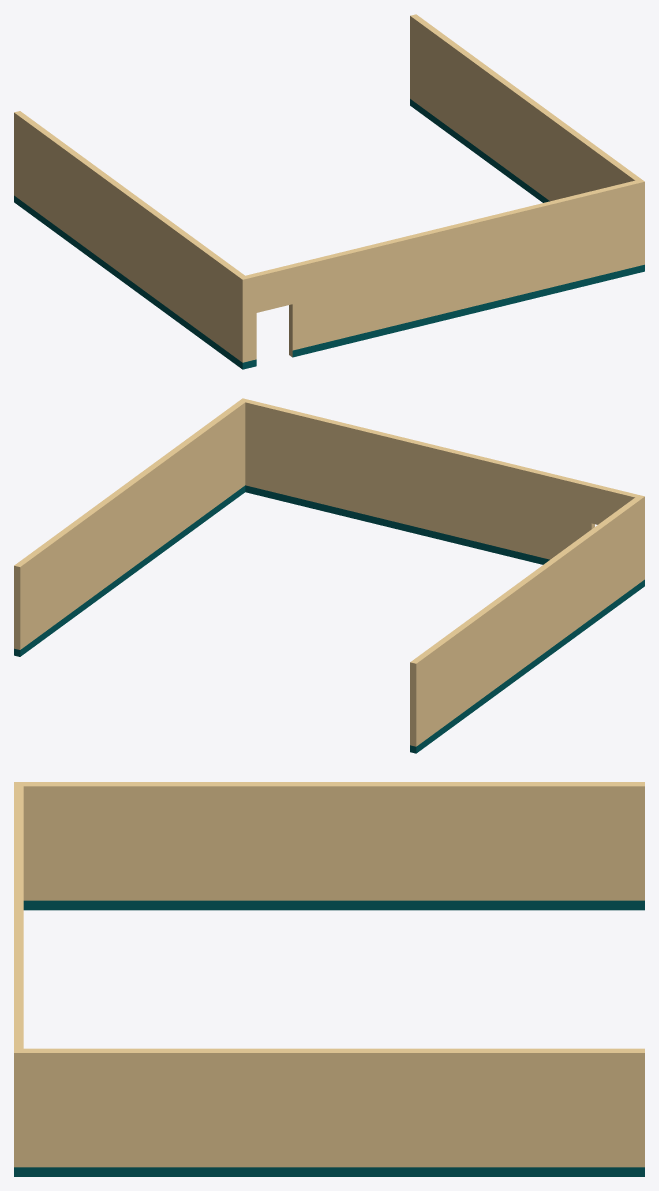
The model's file is Wall.fbx.
The picture shows the model from 3 angles, top to bottom: view 1: azimuth 30°, elevation 25°; view 2: azimuth 150°, elevation 25°; view 3: azimuth 270°, elevation 25°; orthographic projection. The views are drawn at different scales.
Visible parts, largest first — view 1: Wall; view 2: Wall; view 3: Wall.
Part boxes in pixels (<box>): Wall: <box>14,14,644,369</box>; Wall: <box>14,398,644,753</box>; Wall: <box>14,782,644,1176</box>.
Size of the model in its own units: 22.29 by 4.76 by 21.95.
